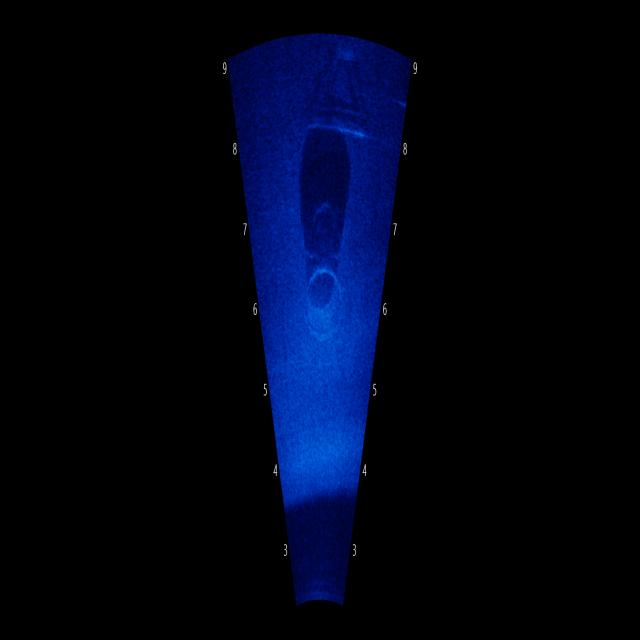circle: (300, 218, 362, 380)
triangle: (294, 37, 376, 154)
